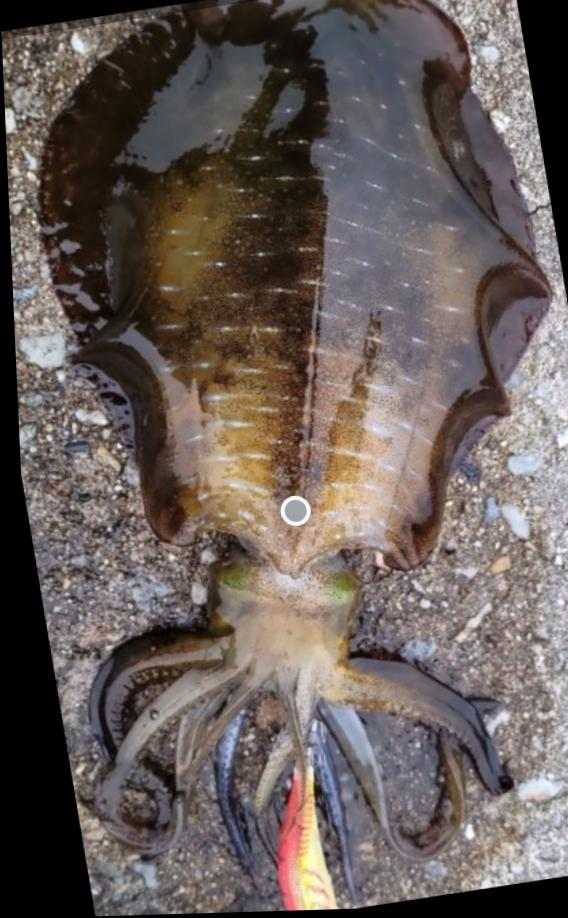Cephalopod: (38, 0, 549, 903)
